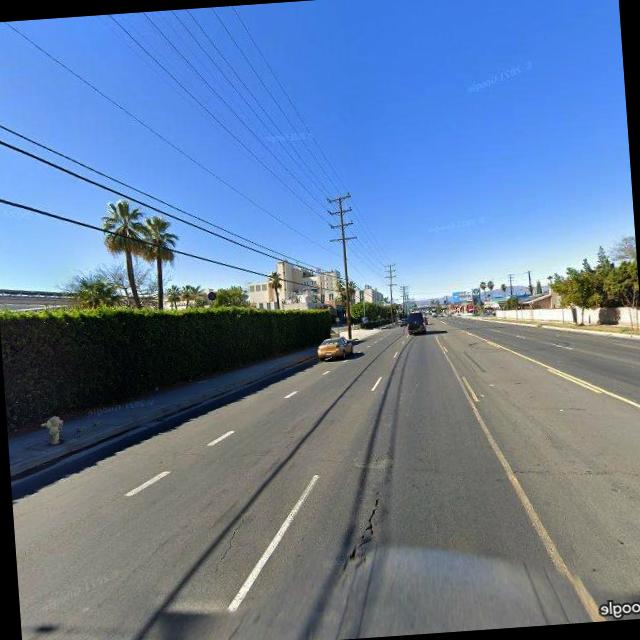crack: (331, 478, 393, 580), (207, 500, 258, 569)
